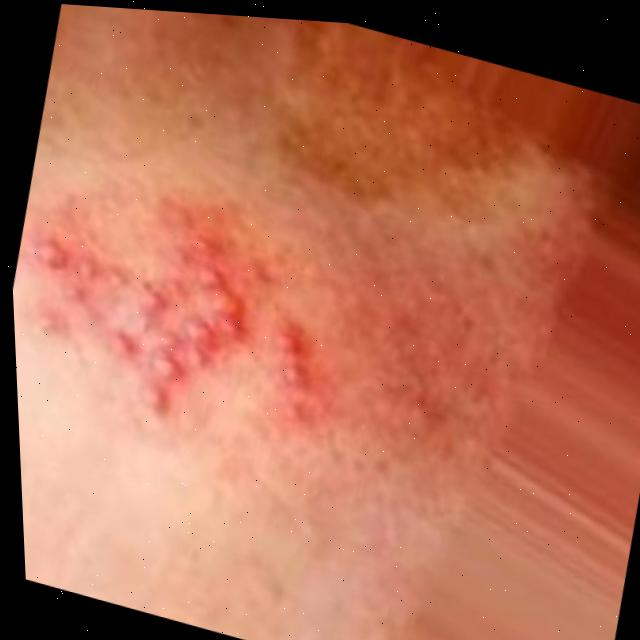Shingles: (9, 203, 358, 457)
